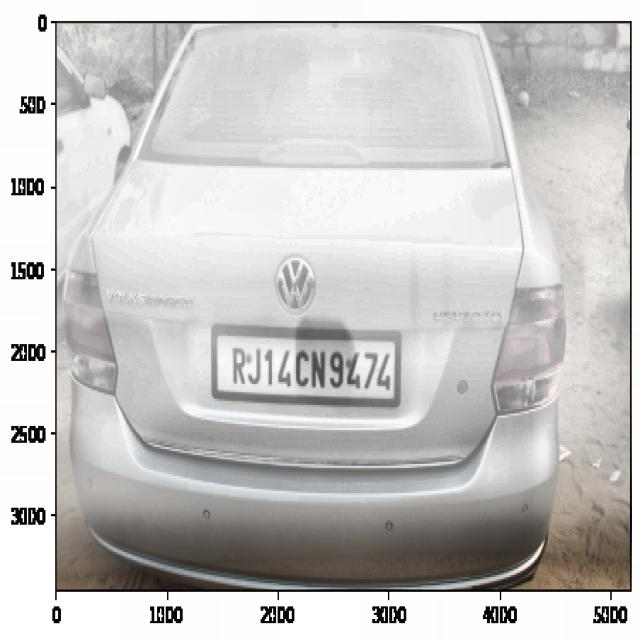license_plate: (222, 331, 397, 401)
